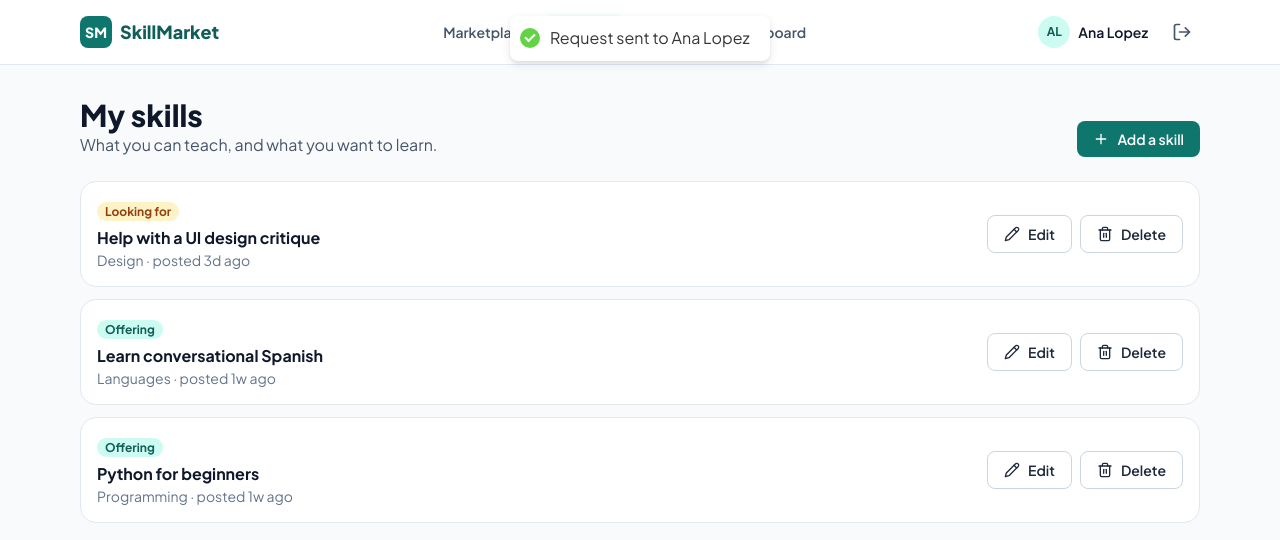
Test: requesting a skill › does not offer the request button on your own skill
Click the link "Python for beginners" at [178, 474], box [97,463,259,484]
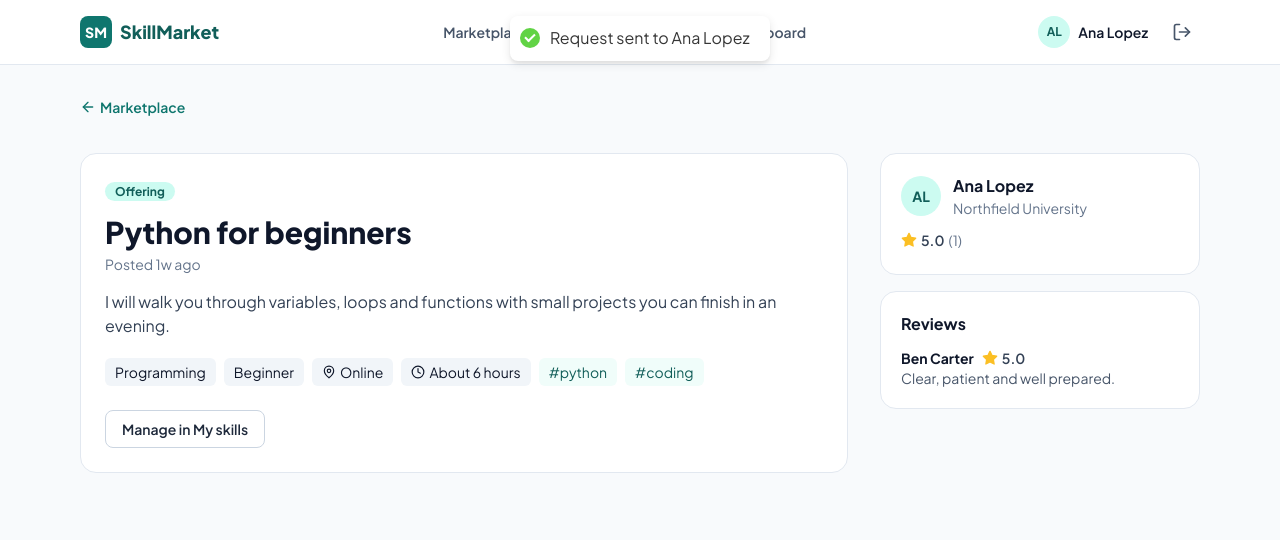
Now the link "Manage in My skills" is shown, box [105,410,265,448]
